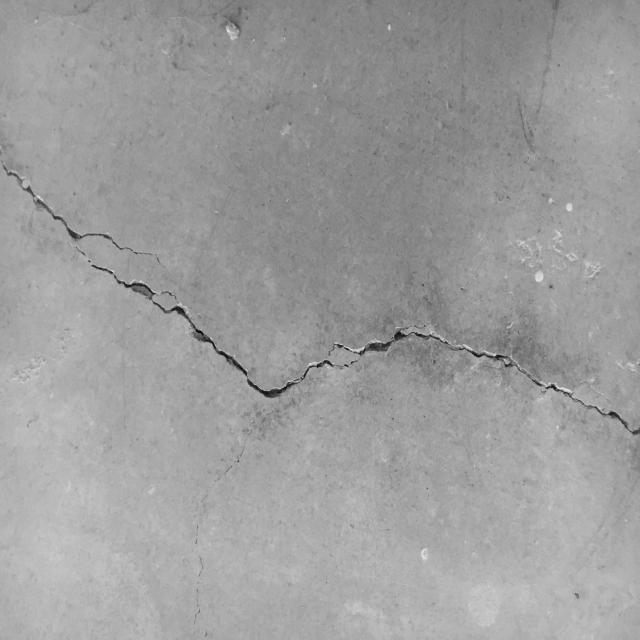SurfaceCrack: (0, 86, 639, 427)
